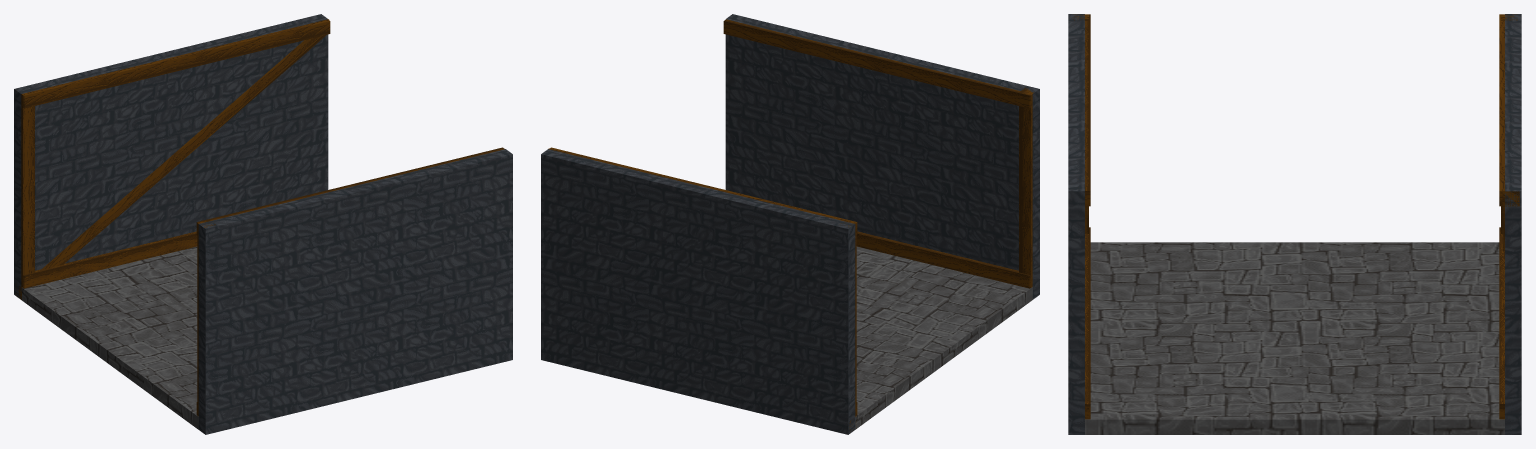
The model's file is Flur V3.fbx.
The picture shows the model from 3 angles, left to right: view 1: azimuth 30°, elevation 25°; view 2: azimuth 150°, elevation 25°; view 3: azimuth 270°, elevation 25°; orthographic projection. The views are drawn at different scales.
Parts seen in each view (by area): view 1: Flur V3.002, Flur V3.001, Flur V3; view 2: Flur V3.001, Flur V3.002, Flur V3; view 3: Flur V3, Flur V3.001, Flur V3.002.
Boxes of the visible parts, x1=… form: Flur V3.002: x1=196, y1=147, x2=512, y2=434; Flur V3.001: x1=14, y1=14, x2=330, y2=300; Flur V3: x1=21, y1=246, x2=198, y2=429; Flur V3.001: x1=541, y1=147, x2=857, y2=434; Flur V3.002: x1=723, y1=14, x2=1039, y2=299; Flur V3: x1=855, y1=246, x2=1032, y2=429; Flur V3: x1=1085, y1=242, x2=1504, y2=434; Flur V3.001: x1=1499, y1=14, x2=1521, y2=434; Flur V3.002: x1=1068, y1=14, x2=1090, y2=434.
Size of the model in its own units: 500 by 540 by 320.
1 material, 1 textured.
